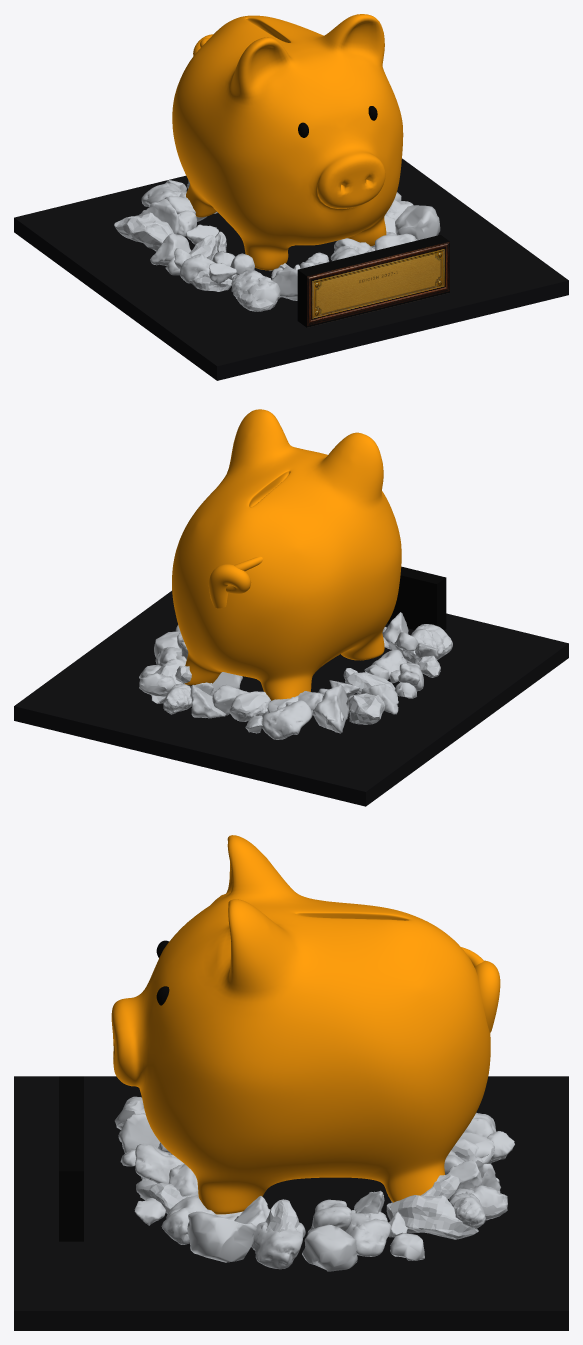
File: render.glb
3 renders of one model, top to bottom at view 1: azimuth 30°, elevation 25°; view 2: azimuth 150°, elevation 25°; view 3: azimuth 270°, elevation 25°, orthographic. The views are drawn at different scales.
Parts seen in each view (by area): view 1: marranito, Nuevo plano, PIEDRA, Placa; view 2: marranito, Nuevo plano, PIEDRA, Placa; view 3: marranito, Nuevo plano, PIEDRA, Placa.
Part boxes in pixels (left/top/right/bottom): marranito: left=172, top=14, right=403, bottom=270; Nuevo plano: left=14, top=158, right=568, bottom=380; PIEDRA: left=114, top=180, right=440, bottom=311; Placa: left=297, top=235, right=449, bottom=327; marranito: left=172, top=409, right=401, bottom=700; Nuevo plano: left=14, top=590, right=568, bottom=806; PIEDRA: left=139, top=612, right=452, bottom=739; Placa: left=387, top=566, right=446, bottom=630; marranito: left=111, top=835, right=500, bottom=1214; Nuevo plano: left=14, top=1076, right=568, bottom=1330; PIEDRA: left=114, top=1096, right=514, bottom=1271; Placa: left=59, top=1076, right=83, bottom=1241.
Size of the model in its own units: 5.54 by 3.79 by 5.54.
6 materials, 3 textured.
